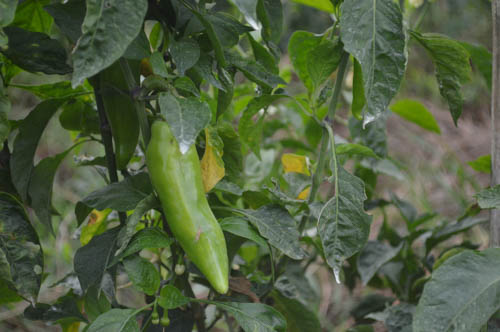ChiliPepper: (149, 122, 232, 295), (99, 67, 143, 172)
